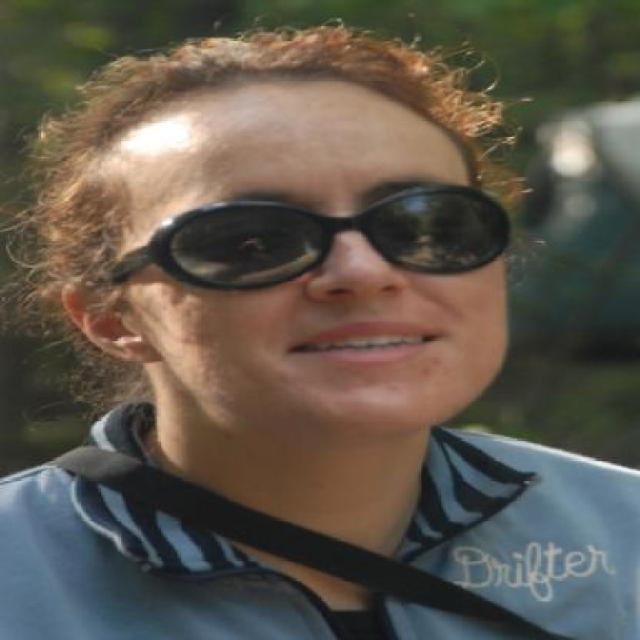face_nomask: (139, 148, 526, 407)
glasses: (95, 174, 537, 289)
head_nohelmet: (51, 20, 502, 154)
